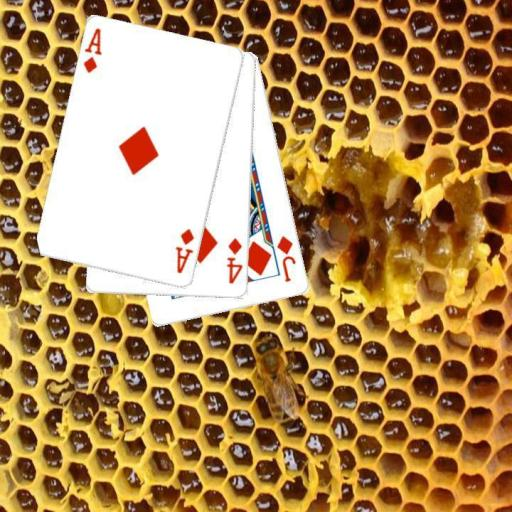card-corner: (274, 232, 298, 284), (172, 226, 196, 276), (80, 26, 104, 74), (224, 235, 244, 286)
